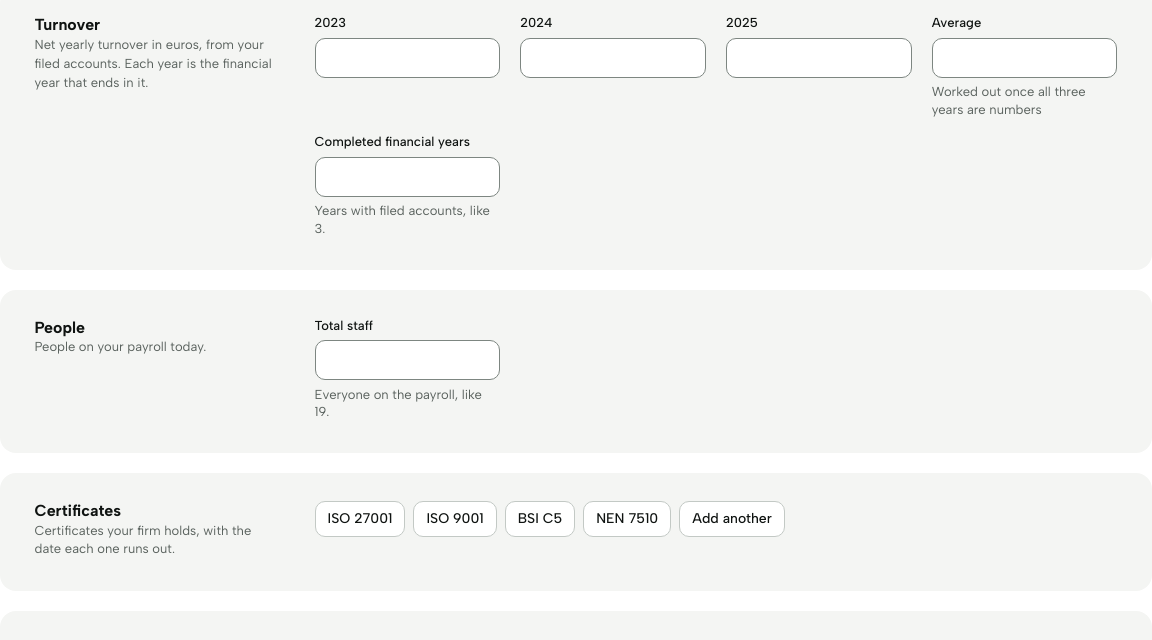
Test: ProfileForm, values and errors › counts the fields not saved when there are several
(page scrolled)
Type "-3" into the field labelled "Total staff" at (407, 360), box [314,340,500,380]
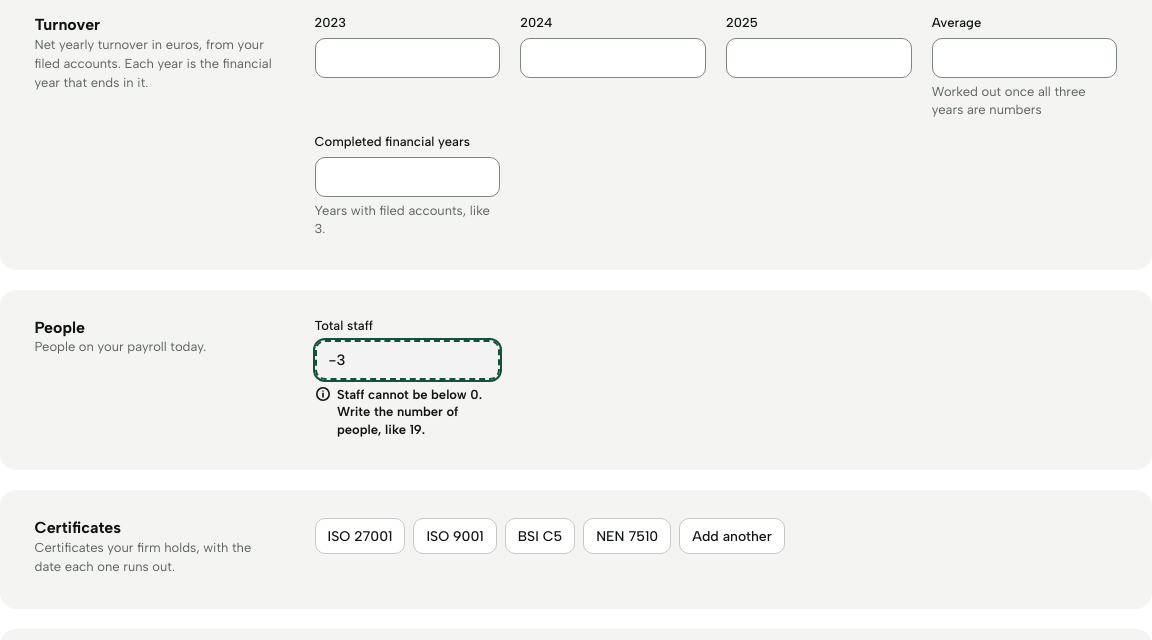
Type "six" into the field labelled "Completed financial years" at (407, 177), box [314,157,500,197]
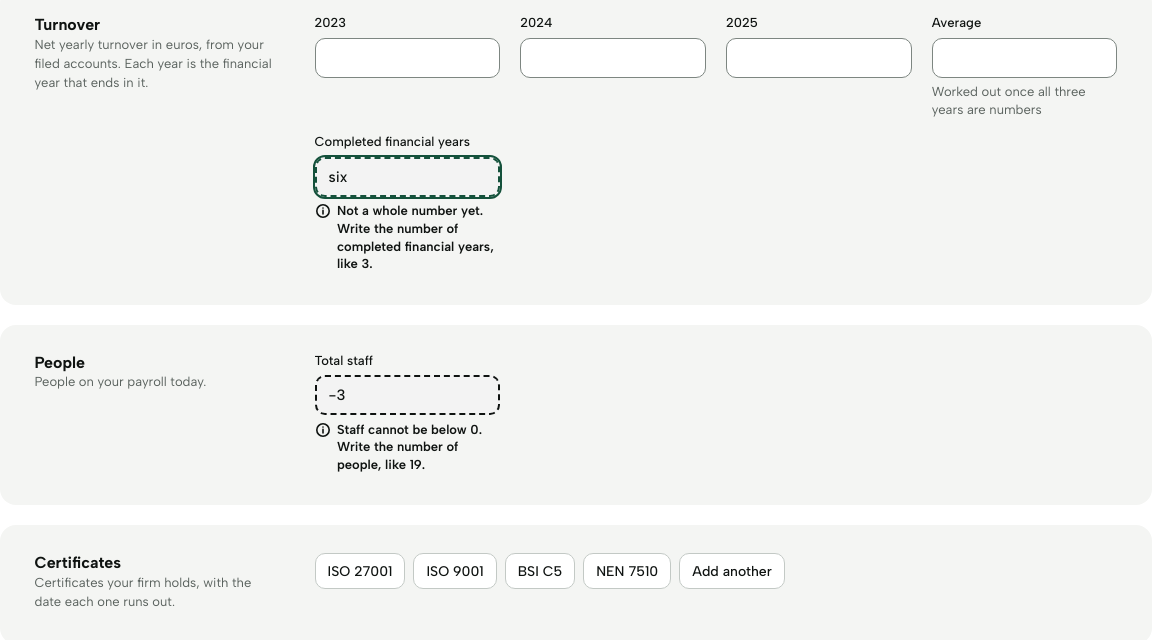
Expected: the text "Staff cannot be below 0. Write the number of people, like 19." is shown, [337,421,500,473]
Expected: the text "Not a whole number yet. Write the number of completed financial years, like 3." is shown, [337,202,500,273]
